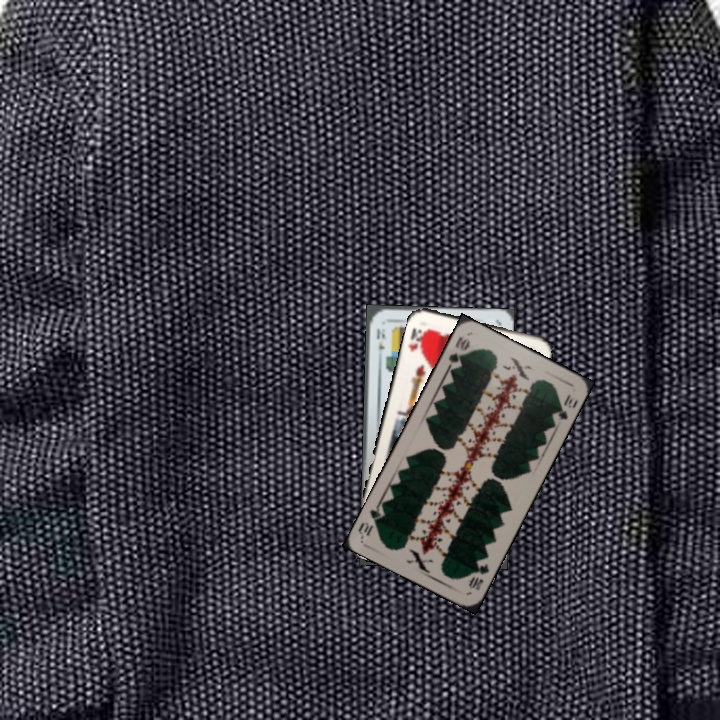EK: (373, 324, 388, 360)
G10: (444, 333, 473, 372), (464, 559, 492, 593)
HK: (405, 323, 429, 357)
